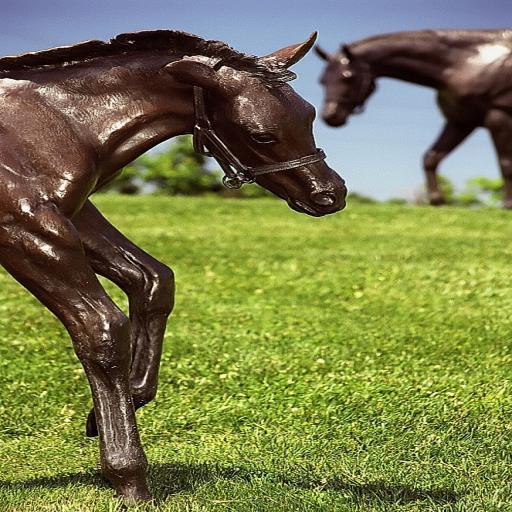horse: (0, 27, 351, 509), (312, 27, 512, 211)
